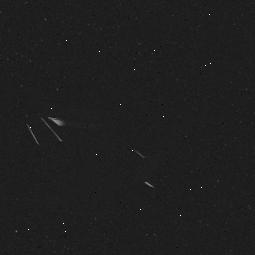cheops: (11, 89, 169, 197)
